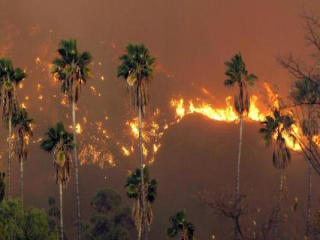smoke: (61, 106, 179, 174), (181, 91, 308, 152)
